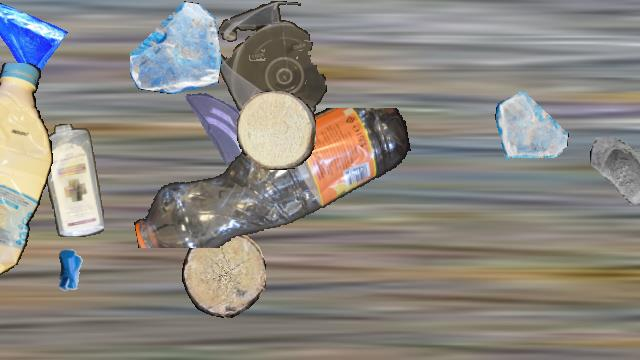glass: (130, 1, 222, 93), (181, 89, 265, 173), (0, 1, 68, 83), (495, 88, 569, 162), (589, 137, 640, 213)
metal: (40, 241, 102, 303)
plastic: (129, 108, 413, 248), (216, 1, 328, 133), (0, 63, 53, 275), (43, 124, 103, 236)
wood: (182, 232, 266, 318), (237, 91, 315, 169)
